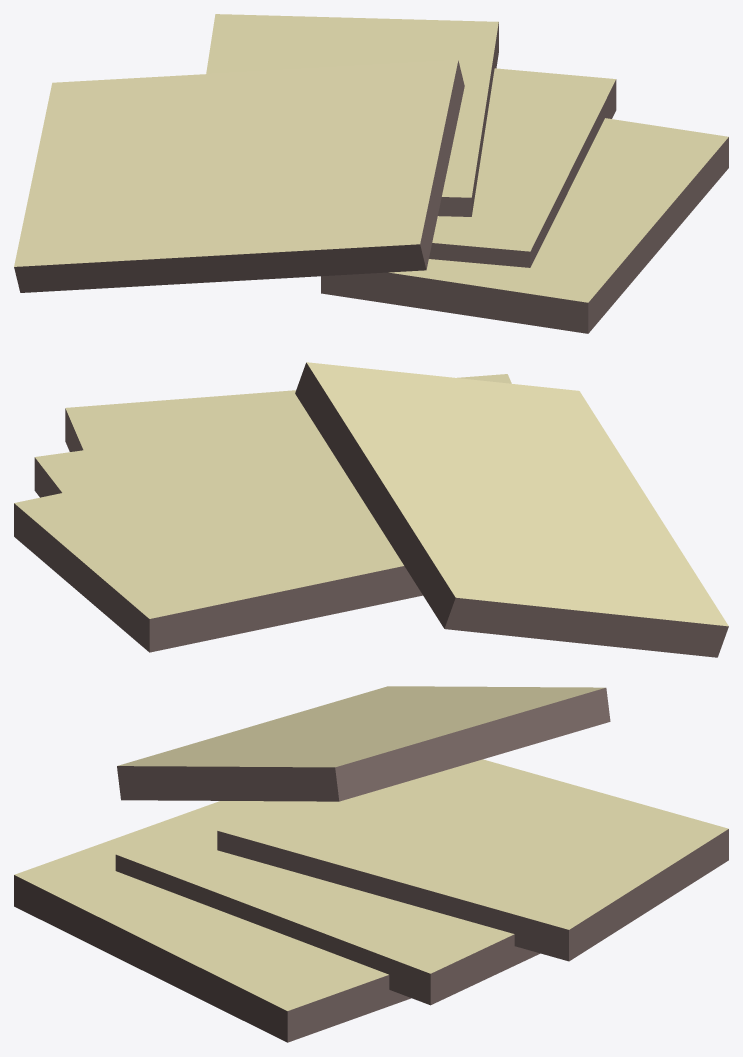
File: baralho_varias_cartas.fbx
3 views of the same model, one above another, from view 1: azimuth 30°, elevation 25°; view 2: azimuth 150°, elevation 25°; view 3: azimuth 270°, elevation 25° (orthographic). The views are drawn at different scales.
Visible parts, largest first — view 1: baralho_varias_cartas; view 2: baralho_varias_cartas; view 3: baralho_varias_cartas.
Boxes of the visible parts, bbox=[...] form: baralho_varias_cartas: bbox=[14, 14, 728, 333]; baralho_varias_cartas: bbox=[14, 362, 728, 657]; baralho_varias_cartas: bbox=[14, 686, 728, 1042].
Size of the model in its own units: 18.06 by 3.99 by 16.58.
